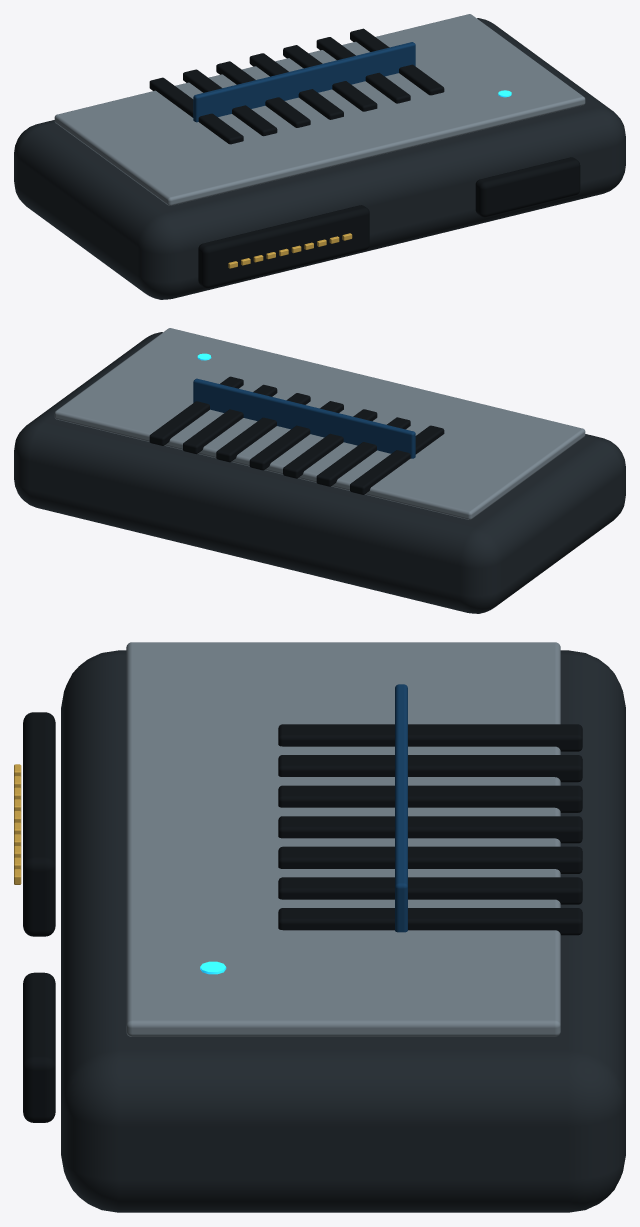
The model's file is video-capture-card.glb.
3 views of the same model, one above another, from view 1: azimuth 30°, elevation 25°; view 2: azimuth 150°, elevation 25°; view 3: azimuth 270°, elevation 25° (orthographic). The views are drawn at different scales.
Visible parts, largest first — view 1: Capture card enclosure, Brushed aluminium top, Cooling groove (×7), HDMI input, 4K capture badge, USB output, Premium HDMI video capture card; view 2: Capture card enclosure, Brushed aluminium top, Cooling groove (×7), 4K capture badge; view 3: Capture card enclosure, Brushed aluminium top, Cooling groove (×7), HDMI input, USB output, 4K capture badge, Premium HDMI video capture card.
Part boxes in pixels (x1,y1,x2,y2): Capture card enclosure: [14, 18, 625, 299]; Brushed aluminium top: [54, 14, 585, 205]; Cooling groove (×7): [149, 28, 444, 144]; HDMI input: [198, 205, 369, 288]; 4K capture badge: [193, 42, 415, 122]; USB output: [475, 157, 580, 217]; Premium HDMI video capture card: [228, 233, 352, 268]; Capture card enclosure: [14, 332, 625, 613]; Brushed aluminium top: [54, 328, 585, 519]; Cooling groove (×7): [149, 376, 444, 494]; 4K capture badge: [193, 378, 415, 458]; Capture card enclosure: [61, 650, 625, 1212]; Brushed aluminium top: [126, 642, 560, 1036]; Cooling groove (×7): [278, 724, 582, 935]; HDMI input: [23, 712, 55, 936]; USB output: [23, 972, 55, 1122]; 4K capture badge: [395, 684, 407, 932]; Premium HDMI video capture card: [14, 764, 21, 884].
Bounding box in the file's own units: 1.45 × 0.345 × 0.845.
